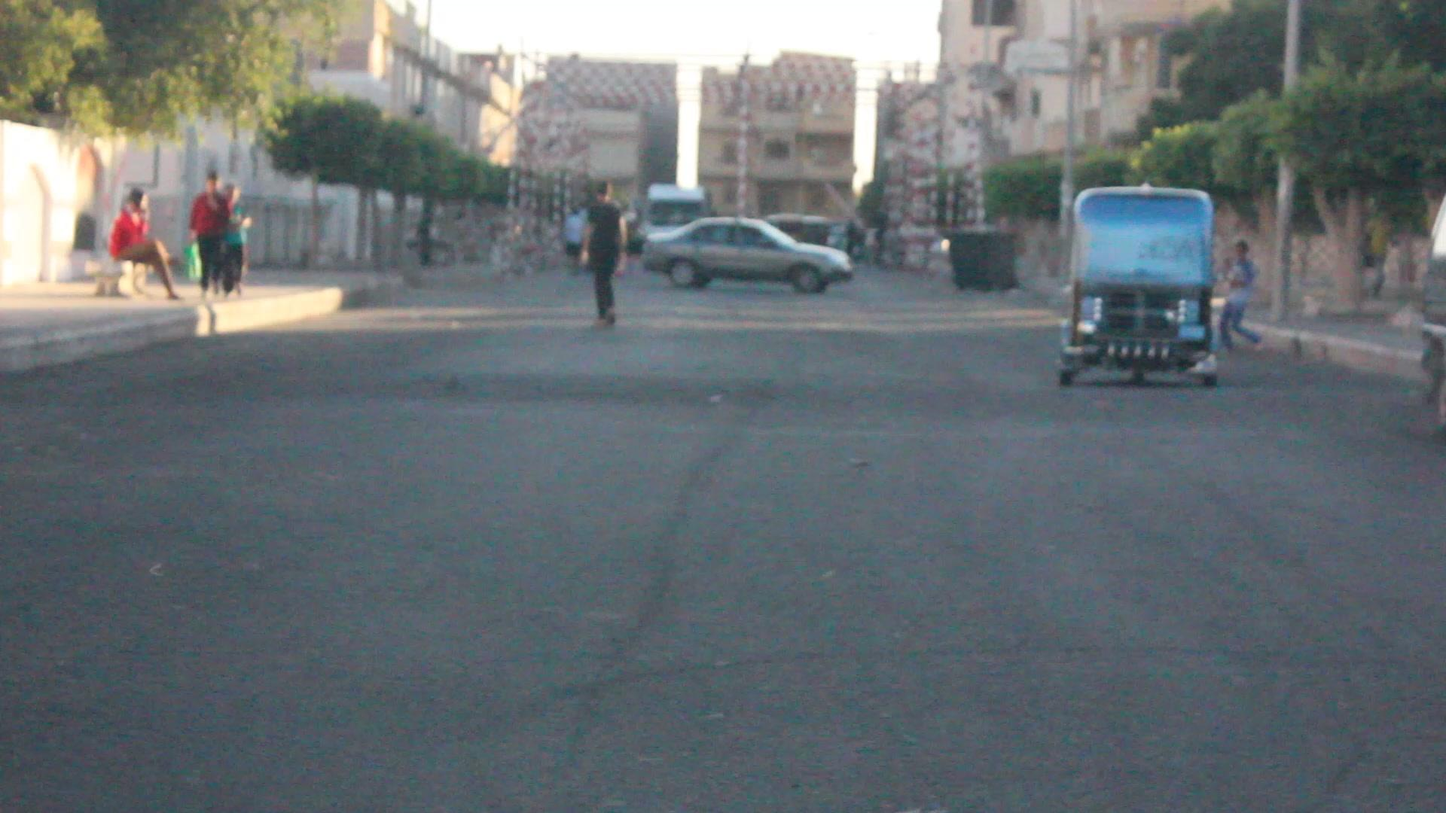Bump: (111, 341, 1442, 450)
